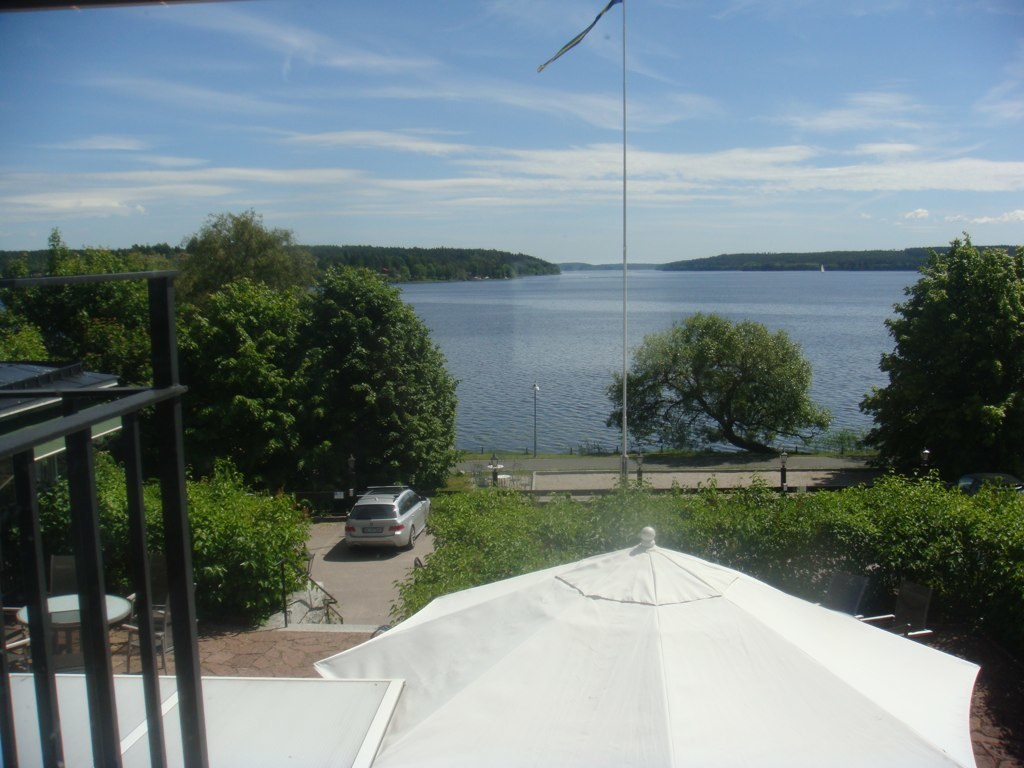Car: (346, 481, 430, 543)
